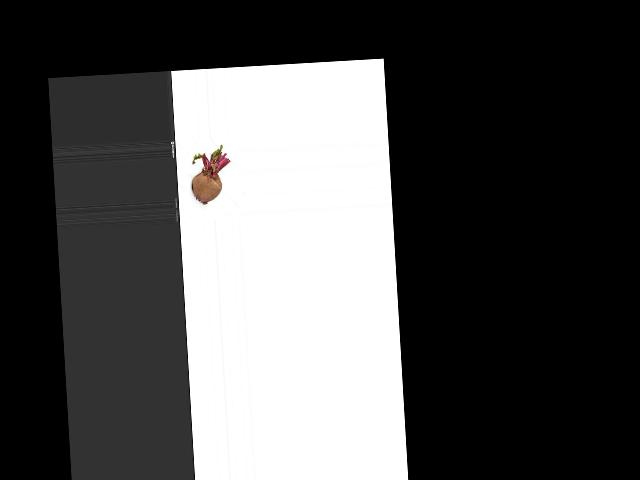beet: (189, 144, 232, 205)
